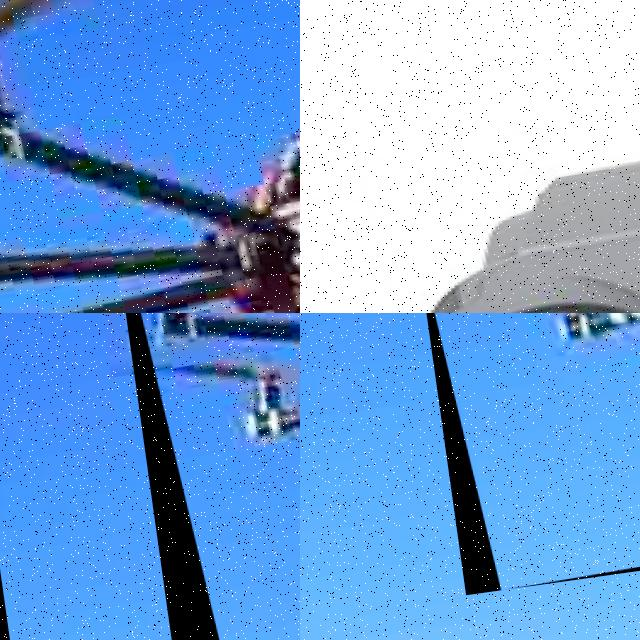drone: (0, 0, 300, 313), (300, 61, 640, 313), (104, 313, 300, 640), (414, 313, 640, 595)
